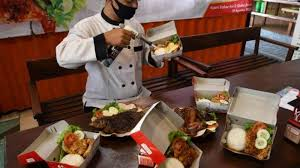ayam_geprek: (56, 125, 89, 157)
